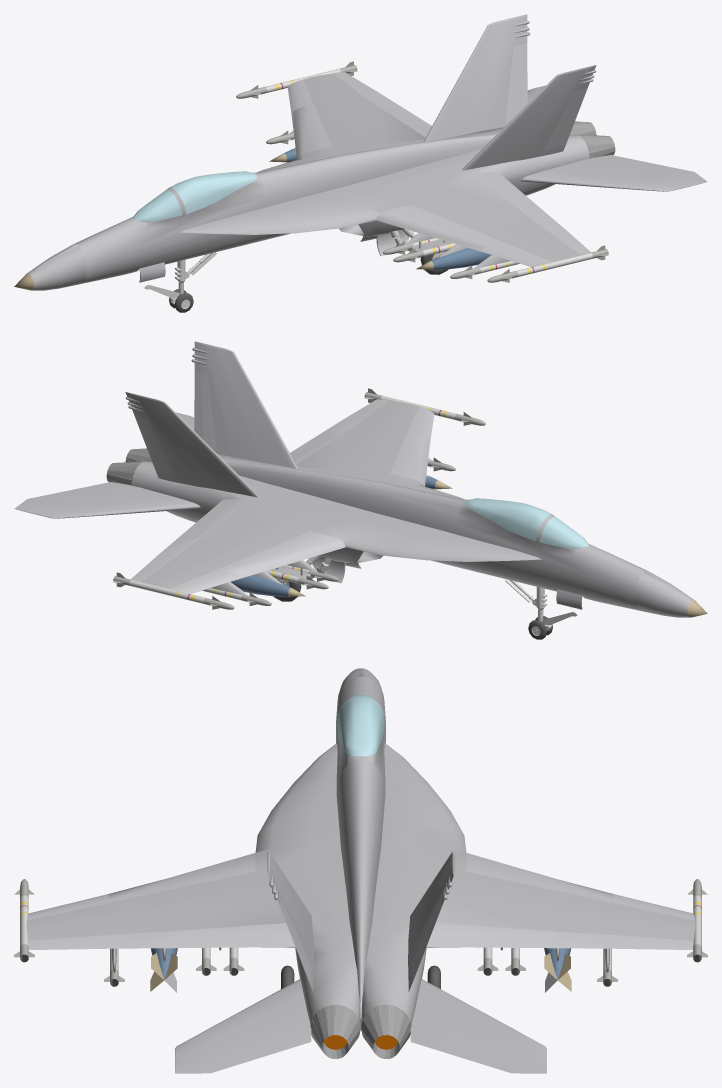
Rendered from Lecu_f18.gltf.
3 views of the same model, one above another, from view 1: azimuth 30°, elevation 25°; view 2: azimuth 150°, elevation 25°; view 3: azimuth 270°, elevation 25° (orthographic). The views are drawn at different scales.
Visible parts, largest first — view 1: FA-18+EF+Super+Hornet; view 2: FA-18+EF+Super+Hornet; view 3: FA-18+EF+Super+Hornet.
Boxes of the visible parts, bbox=[...] form: FA-18+EF+Super+Hornet: bbox=[14, 14, 707, 312]; FA-18+EF+Super+Hornet: bbox=[14, 341, 707, 639]; FA-18+EF+Super+Hornet: bbox=[14, 668, 707, 1073].
Bounding box in the file's own units: 8.72 × 2.38 × 6.27.
